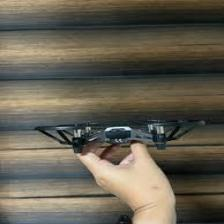drone: (33, 118, 206, 150)
